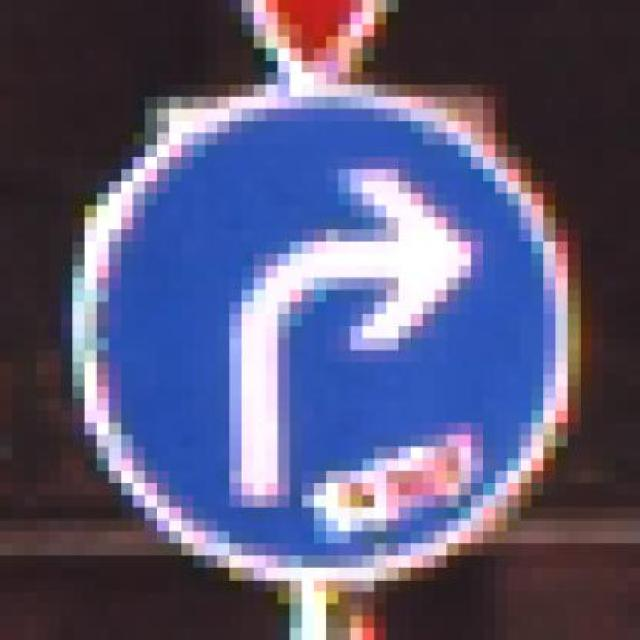Turn right ahead: (60, 72, 592, 605)
